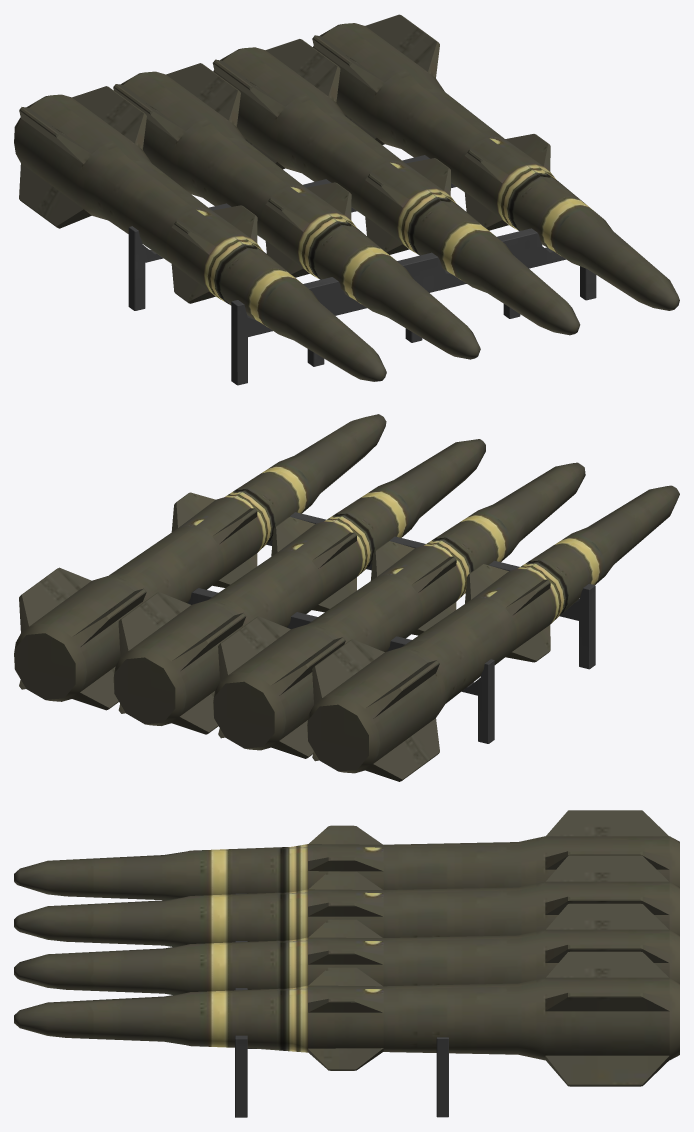
The model's file is mb-missile-rack.lod0.glb.
3 views of the same model, one above another, from view 1: azimuth 30°, elevation 25°; view 2: azimuth 150°, elevation 25°; view 3: azimuth 270°, elevation 25° (orthographic).
Parts seen in each view (by area): view 1: missile_rack_loaded; view 2: missile_rack_loaded; view 3: missile_rack_loaded.
Boxes of the visible parts, left/top/right/bottom form: missile_rack_loaded: left=14, top=14, right=679, bottom=385; missile_rack_loaded: left=14, top=414, right=679, bottom=781; missile_rack_loaded: left=14, top=810, right=679, bottom=1117.
Size of the model in its own units: 1.97 by 0.6424 by 3.
2 materials, 2 textured.
